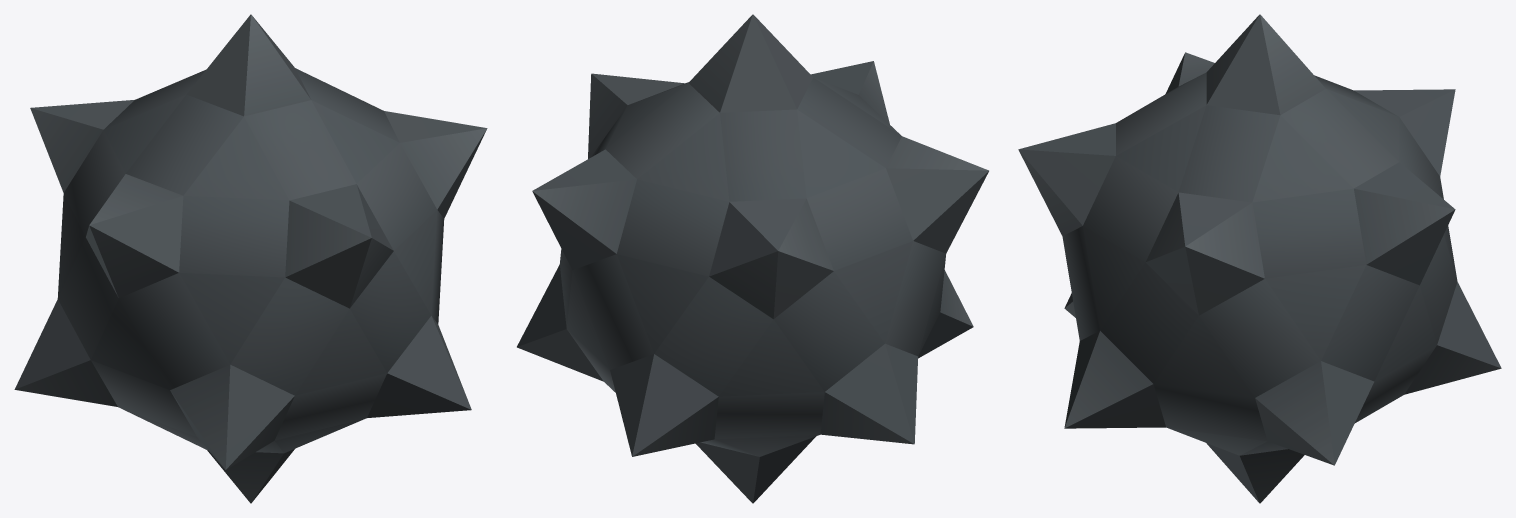
The model's file is stone.glb.
The picture shows the model from 3 angles, left to right: view 1: azimuth 30°, elevation 25°; view 2: azimuth 150°, elevation 25°; view 3: azimuth 270°, elevation 25°; orthographic projection.
Visible parts, largest first — view 1: projectile_catapult; view 2: projectile_catapult; view 3: projectile_catapult.
Part boxes in pixels (x1,y1,x2,y2): projectile_catapult: (14,14,487,503); projectile_catapult: (517,14,988,503); projectile_catapult: (1018,14,1501,503).
Bounding box in the file's own units: 0.2405 × 0.2827 × 0.2528.
1 material, 1 textured.
